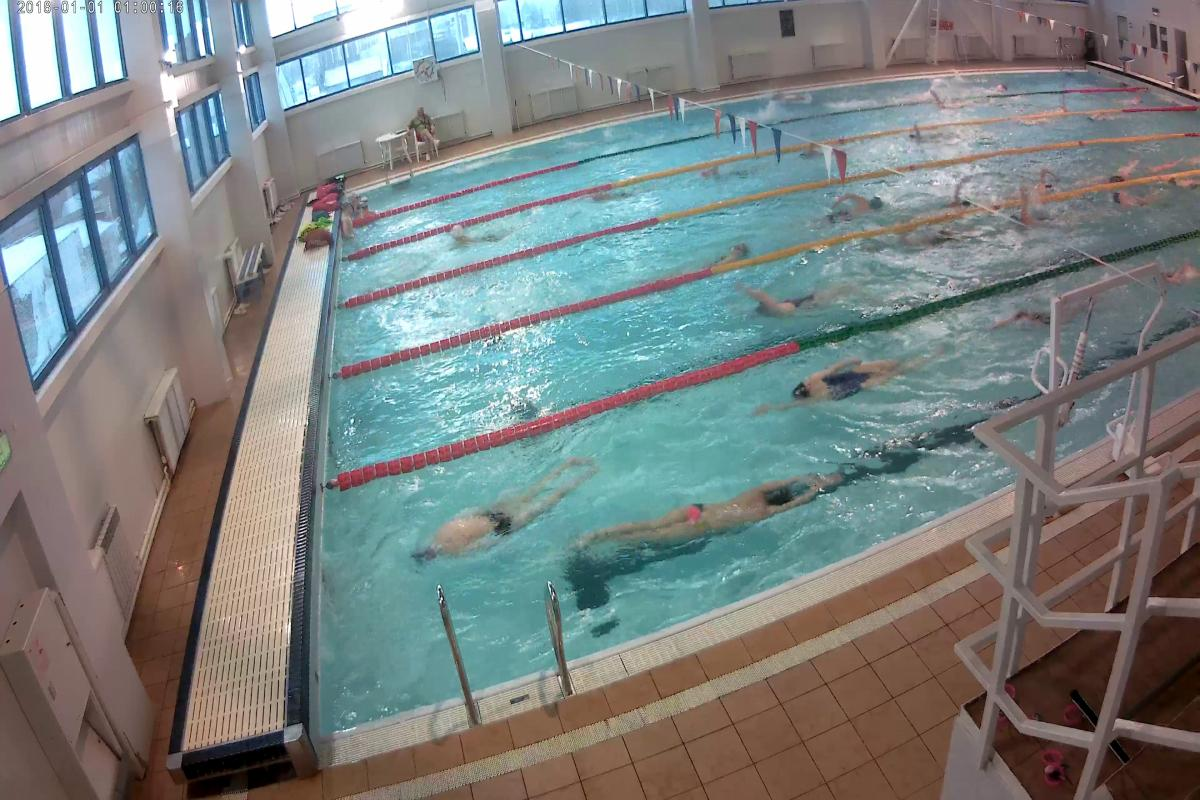swimmer: (608, 474, 835, 553), (408, 459, 592, 556), (759, 349, 919, 418), (736, 278, 845, 320), (871, 221, 970, 258), (996, 300, 1068, 337), (1007, 199, 1073, 237), (1141, 256, 1200, 298), (818, 189, 886, 223), (1110, 184, 1160, 222), (706, 238, 759, 266)
